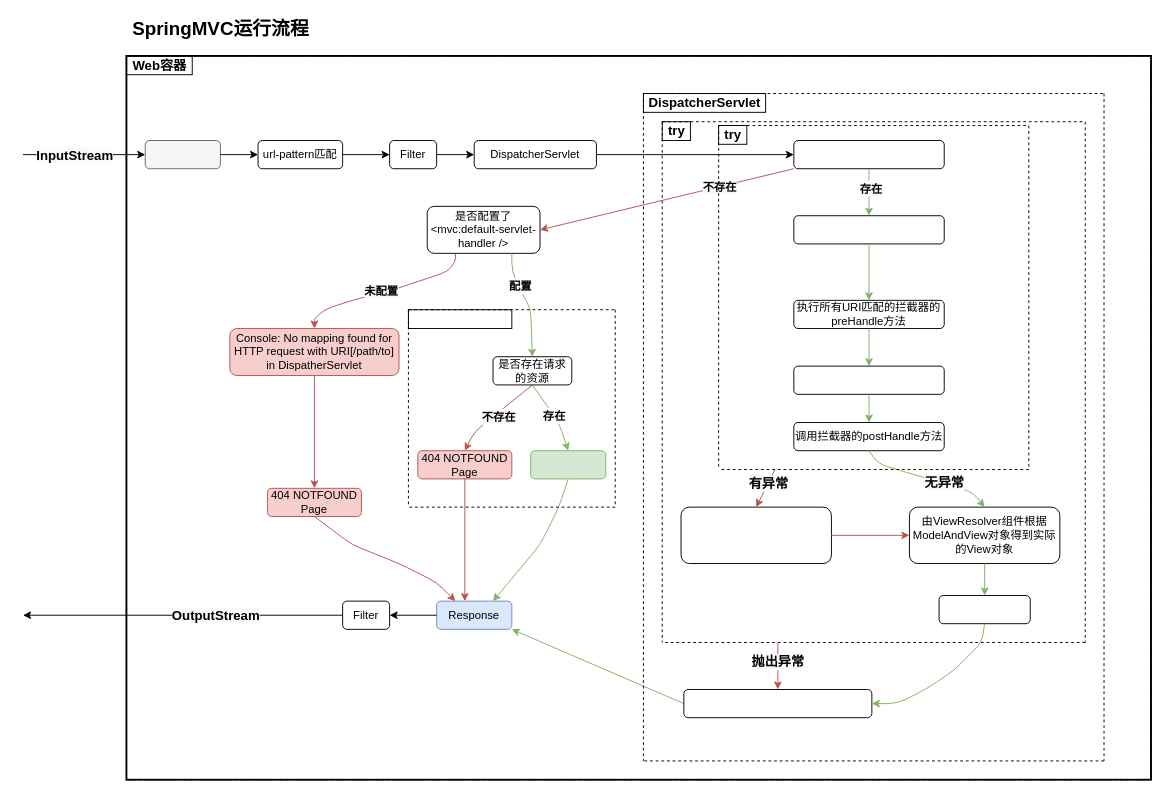
The diagram is 1168 pixels wide and 797 high, and some of its shapes have lost their labels. Each missing label, with the centre of its shape:
DefaultServlet: the point at 459,319
Request: the point at 182,154
从HandlerMappings获取HandlerExecutionChain对象: the point at 868,154
执行目标Handler的目标方法并得到ModelAndView对象: the point at 868,379
渲染视图: the point at 984,609
由HandlerExceptionResolver组件处理异常,得到新的ModelAndView对象: the point at 755,535
目标资源: the point at 568,464
获取HandlerAdapter对象: the point at 868,229
调用拦截器的afterCompletion方法: the point at 777,703
